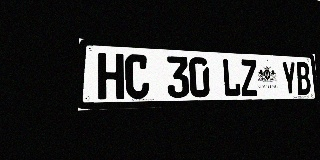0: (189, 57, 210, 98)
3: (167, 56, 189, 98)
B: (295, 62, 311, 95)
C: (125, 54, 150, 99)
H: (98, 53, 124, 100)
L: (222, 58, 241, 97)
Y: (281, 61, 297, 95)
Z: (240, 59, 258, 96)
